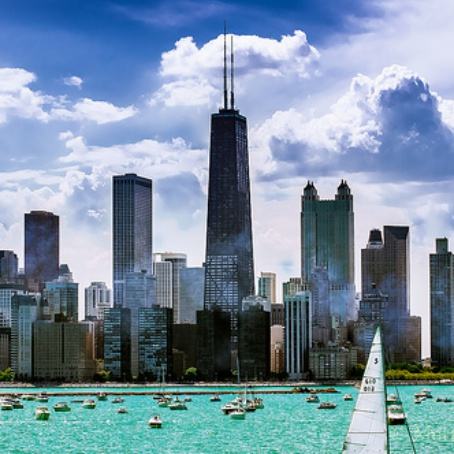building: (200, 99, 250, 311), (295, 178, 359, 342), (366, 220, 423, 377), (107, 178, 156, 312), (11, 208, 68, 295), (24, 317, 97, 384), (429, 234, 454, 364)
sea: (8, 390, 454, 454)
sky: (1, 1, 452, 226)
